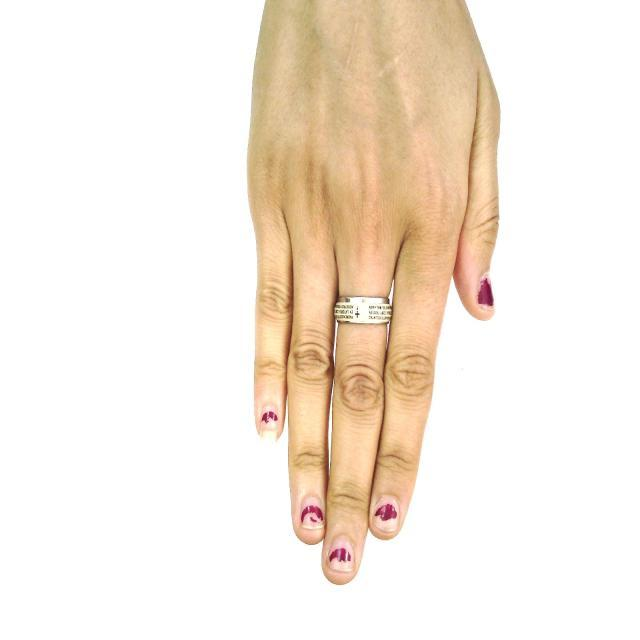Fingernail: (327, 538, 354, 573), (373, 497, 398, 531), (300, 498, 323, 530), (260, 407, 279, 442), (479, 279, 494, 308)
